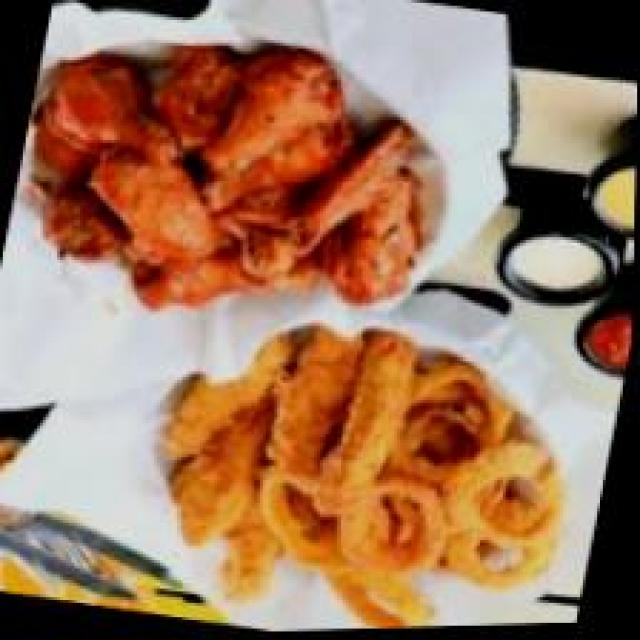Chicken Wings: (0, 0, 477, 386), (123, 313, 414, 630)
Onion Rings: (257, 332, 597, 634)
